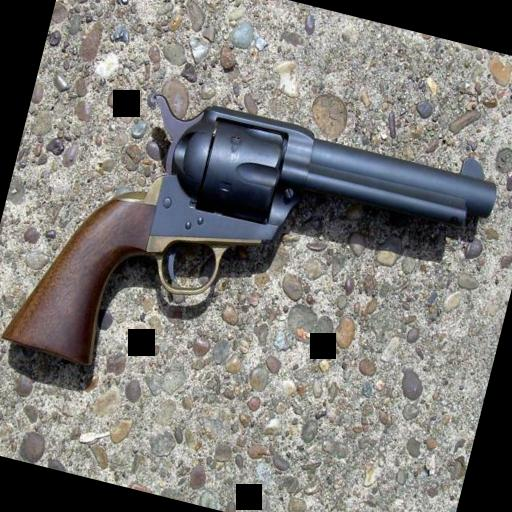Handgun: (0, 40, 507, 473)
